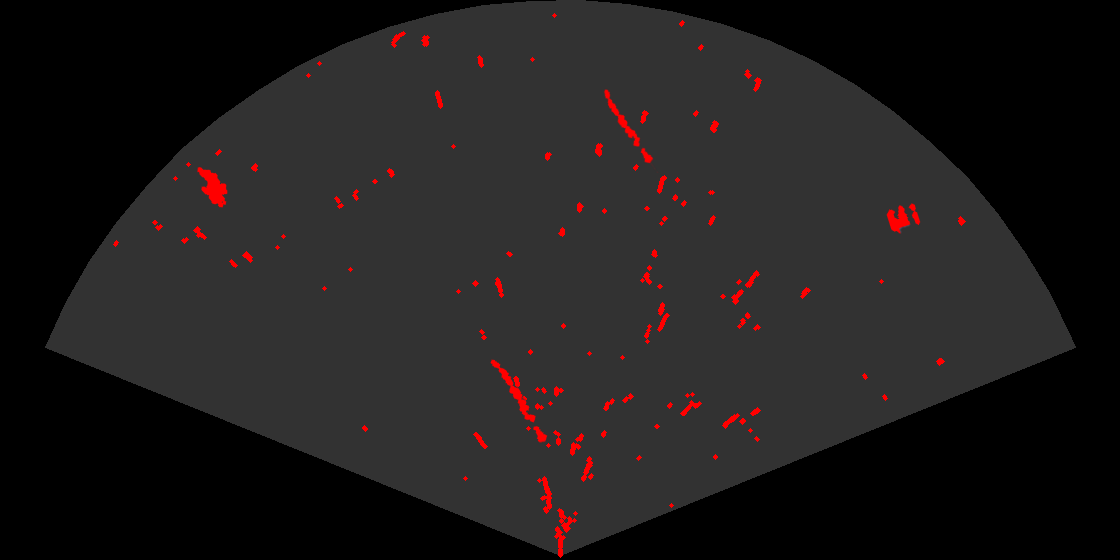AUV: (196, 165, 229, 209)
ball: (885, 202, 922, 235)
chain: (489, 358, 549, 444), (602, 88, 660, 173)
